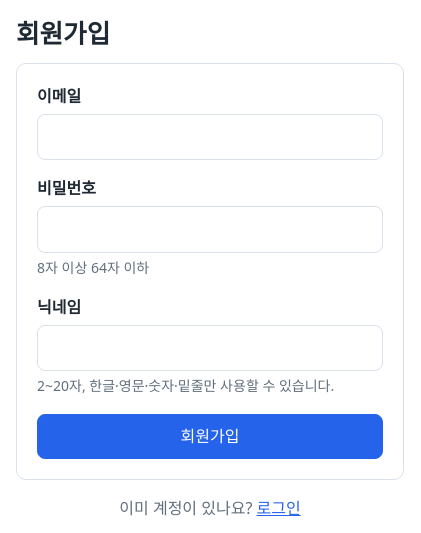
회원가입 › 성공하면 로그인 화면으로 이동한다
Type "a@example.com" into the field labelled "이메일".
click(210, 137); type("a@example.com")  # box [37,114,383,160]
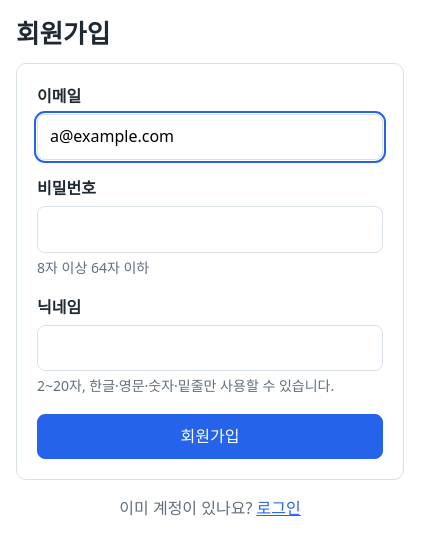
Type "password123" into the password field labelled "비밀번호".
click(210, 229); type("password123")  # box [37,206,383,253]
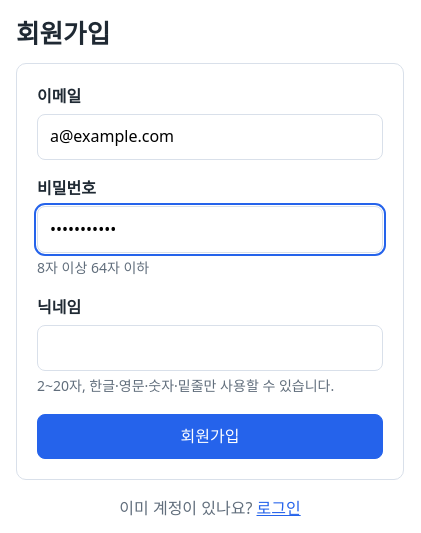
Type "alpha" into the field labelled "닉네임".
click(210, 348); type("alpha")  # box [37,325,383,372]
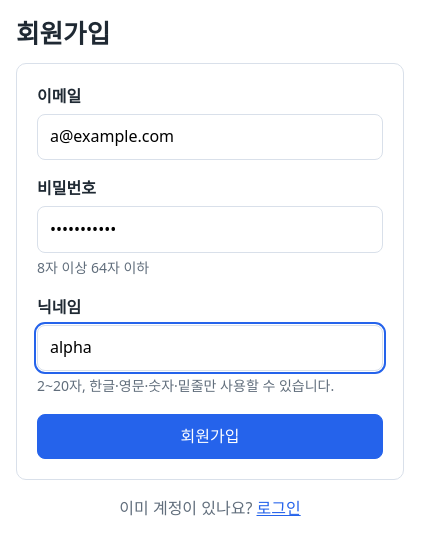
Click the button "회원가입".
click(210, 436)  # box [37,414,383,459]
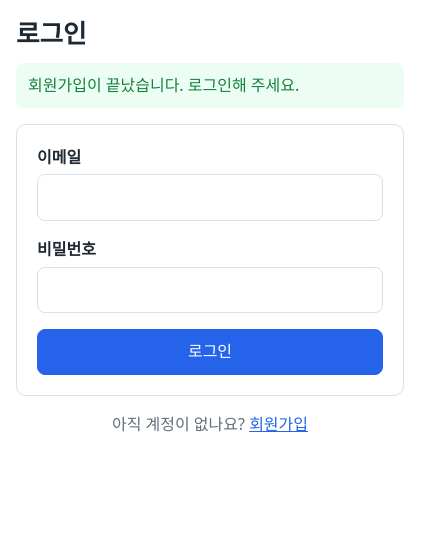
Expected: the heading "로그인" is shown, [16,16,87,51]
Expected: the text "회원가입이 끝났습니다. 로그인해 주세요." is shown, [16,63,404,108]
